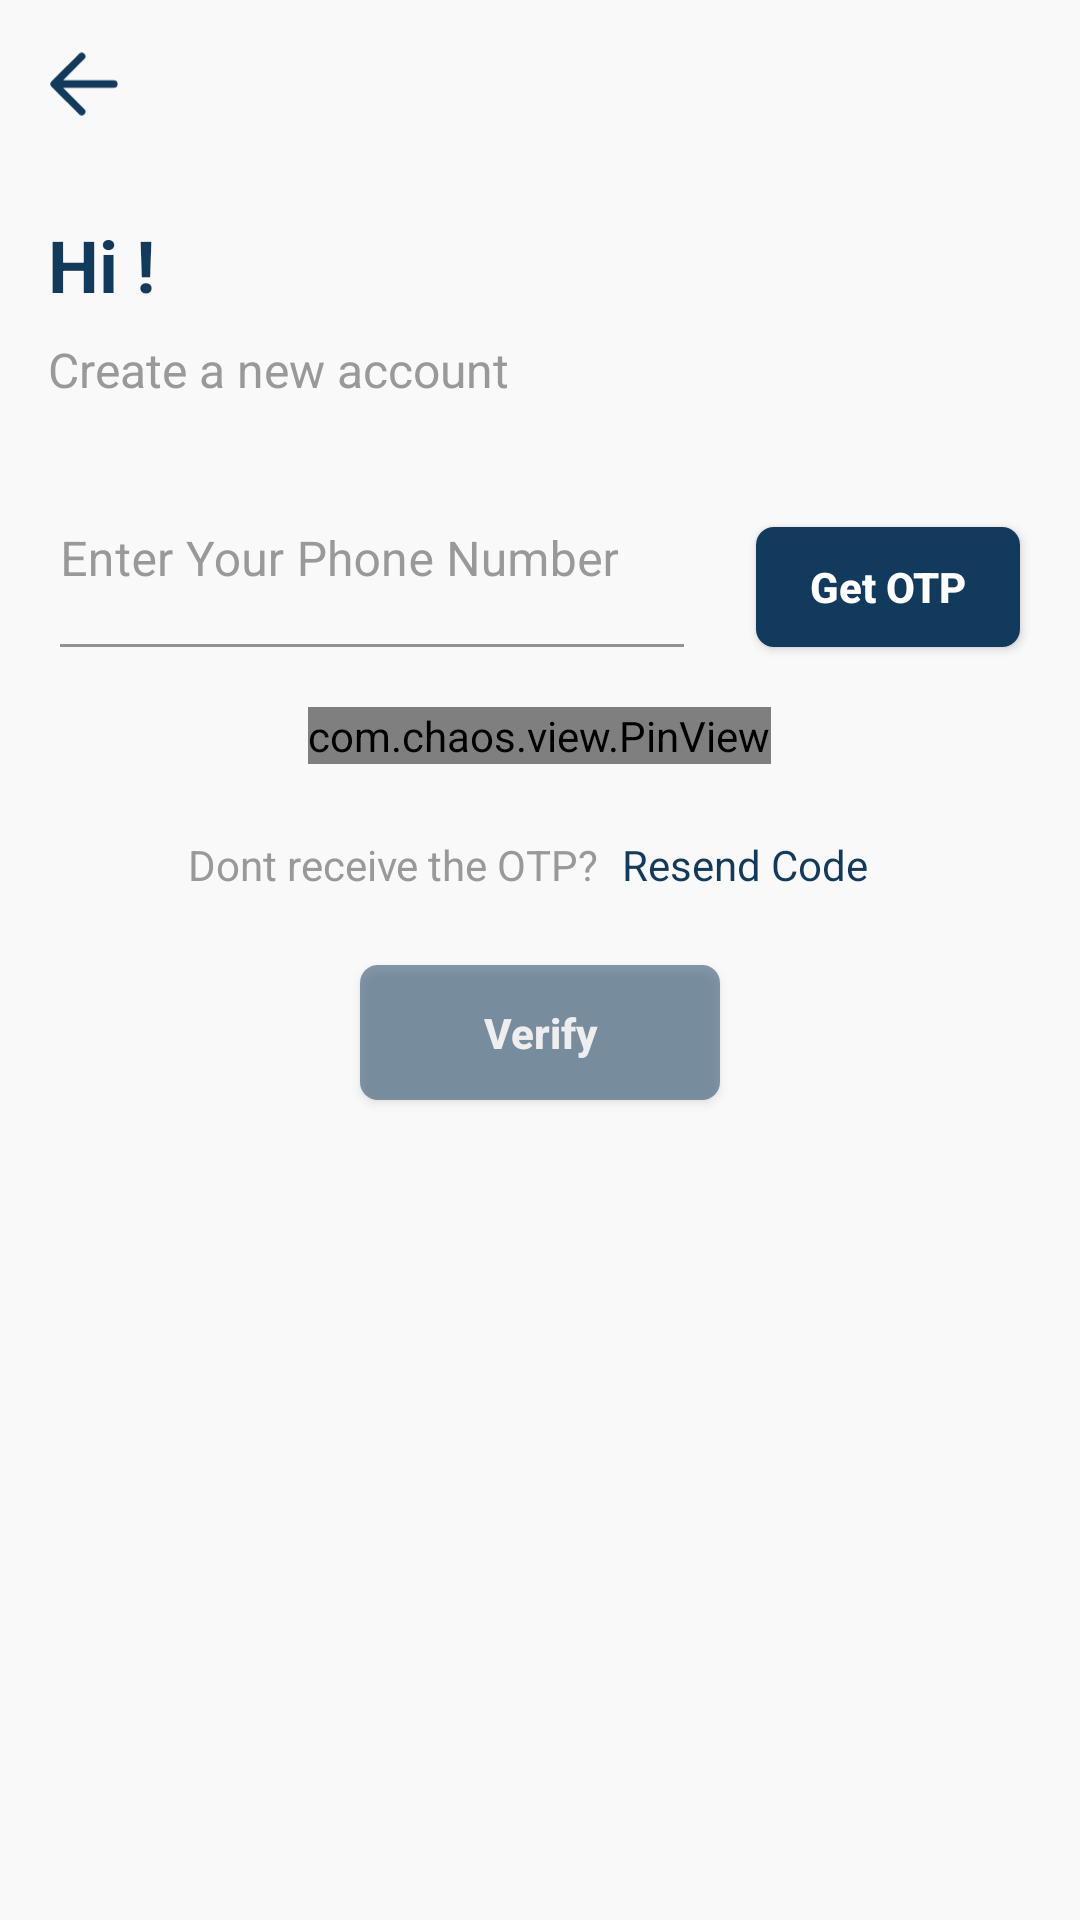

Icon click points for this 1080x1920 phone screenshot, format [x,y]:
back arrow: [84,84]
